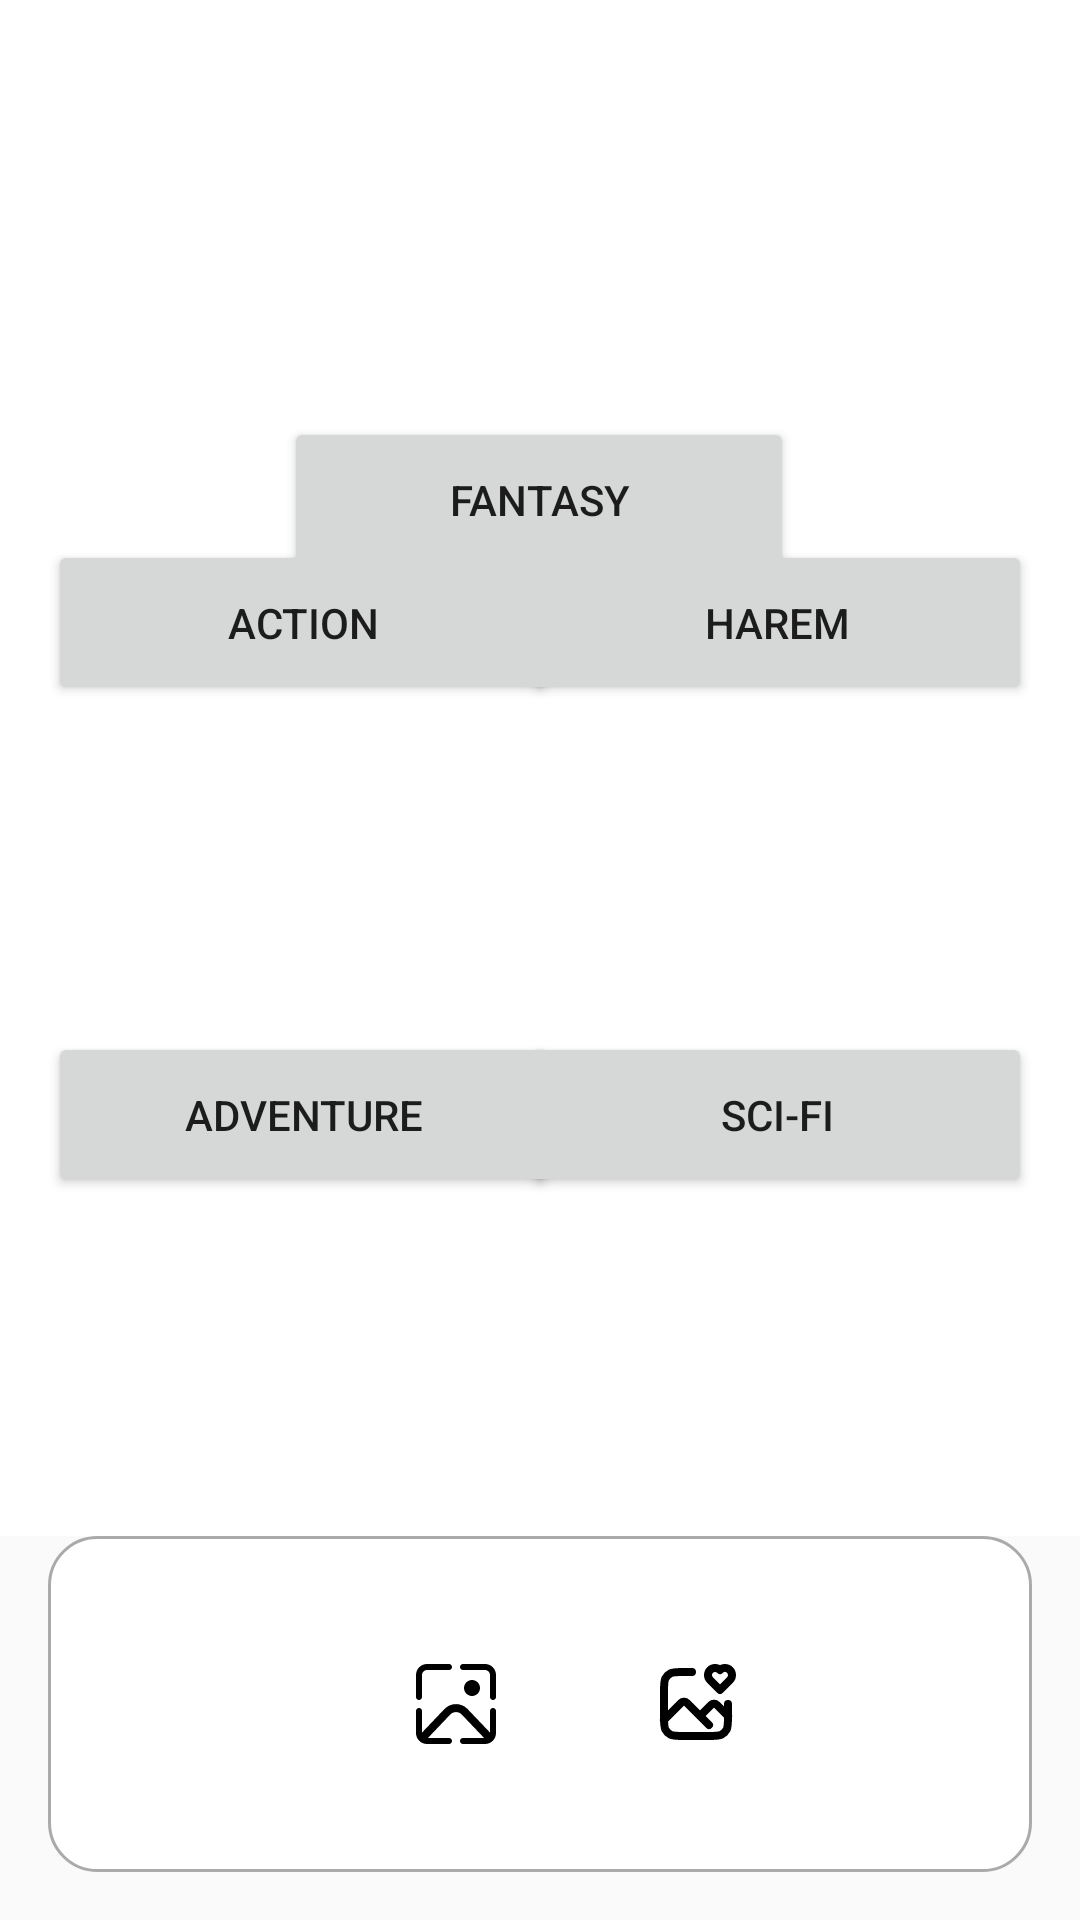

Icon bounding boxes for this 1080px x 1920px phone screenshot, format {"x1": x1, "y1": y1, "x2": x2, "y2": y2}:
favourite: {"x1": 659, "y1": 1664, "x2": 736, "y2": 1740}
